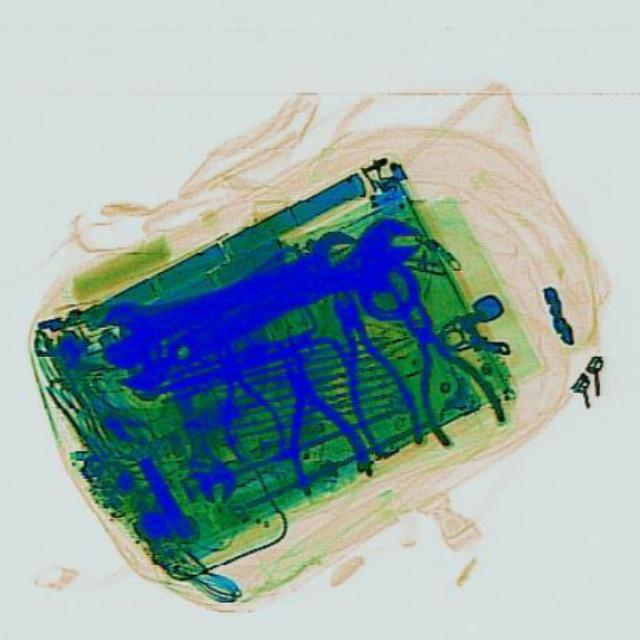Pliers: (364, 270, 508, 448), (306, 276, 428, 459), (248, 334, 376, 498), (192, 341, 292, 469)
Wrench: (150, 207, 436, 383), (81, 218, 373, 372), (151, 366, 241, 510)
